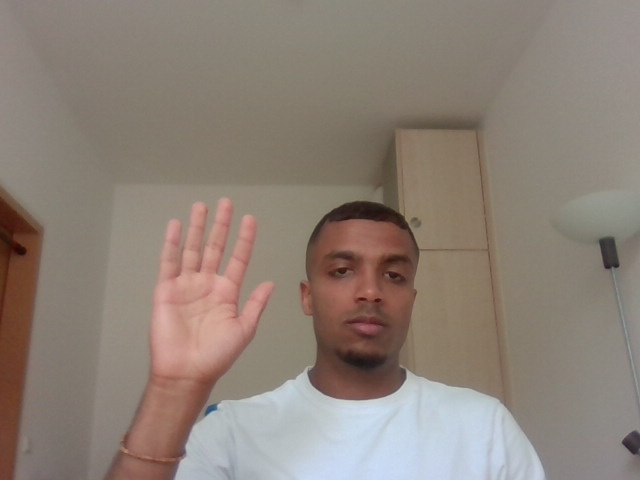never: (136, 184, 281, 394)
